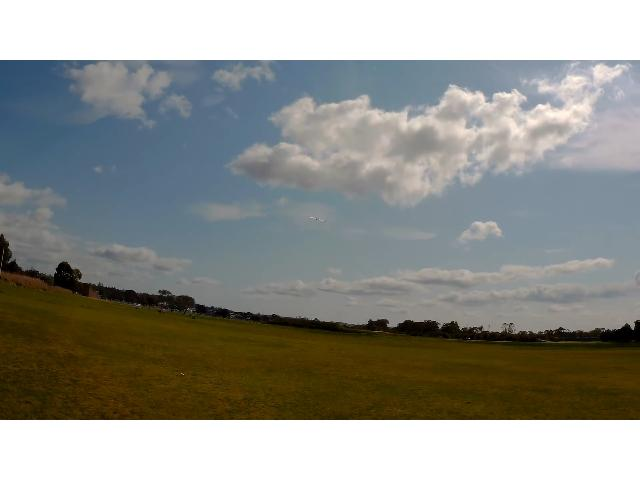Anti-Drone: (310, 218, 326, 222)
